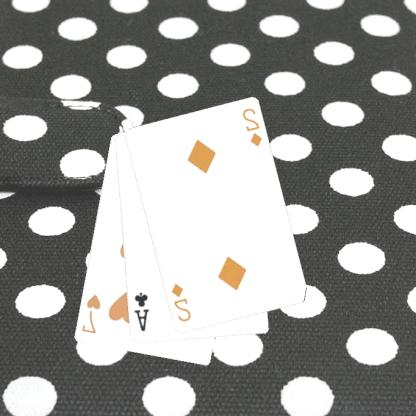2D: (170, 281, 194, 324), (241, 106, 265, 148)
7H: (80, 292, 104, 336)
AC: (132, 290, 152, 333)
